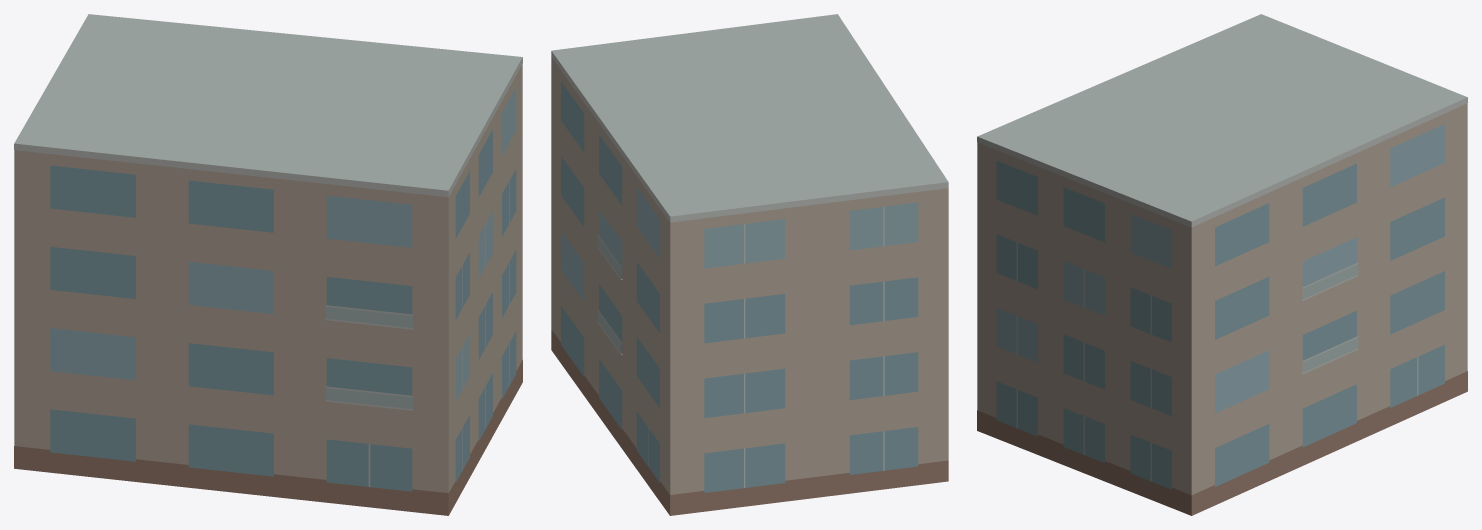
File: residential-24652728-3905-47a5-a32d-d27d5cd070f6.glb
The picture shows the model from 3 angles, left to right: view 1: azimuth 30°, elevation 25°; view 2: azimuth 150°, elevation 25°; view 3: azimuth 270°, elevation 25°; orthographic projection. The views are drawn at different scales.
Parts seen in each view (by area): view 1: residential-24652728-3905-47a5-a32d-d27d5cd070f6.tmp; view 2: residential-24652728-3905-47a5-a32d-d27d5cd070f6.tmp; view 3: residential-24652728-3905-47a5-a32d-d27d5cd070f6.tmp.
Part boxes in pixels (<box>): residential-24652728-3905-47a5-a32d-d27d5cd070f6.tmp: <box>14,14,522,515</box>; residential-24652728-3905-47a5-a32d-d27d5cd070f6.tmp: <box>551,14,948,515</box>; residential-24652728-3905-47a5-a32d-d27d5cd070f6.tmp: <box>977,14,1467,515</box>.
Bounding box in the file's own units: 18.47 × 12.2 × 18.44.
